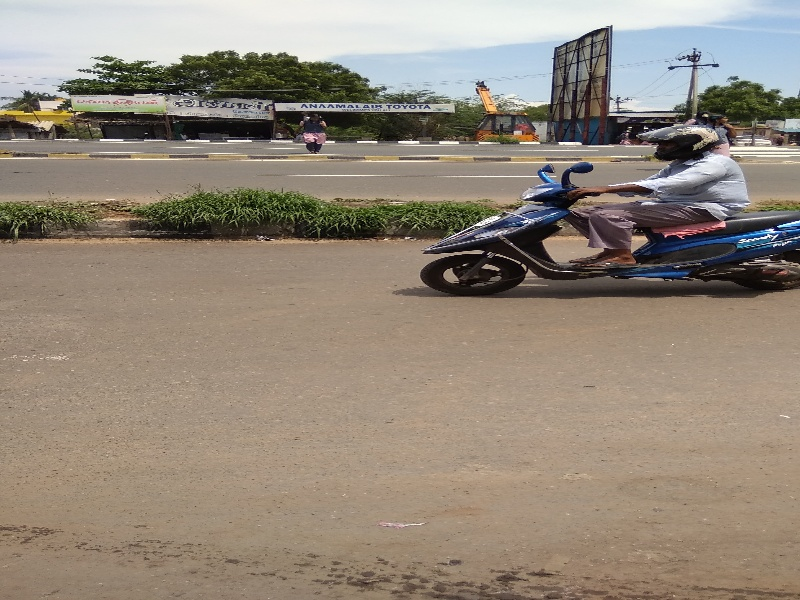biker: (410, 74, 800, 322)
helmet: (627, 110, 738, 169)
